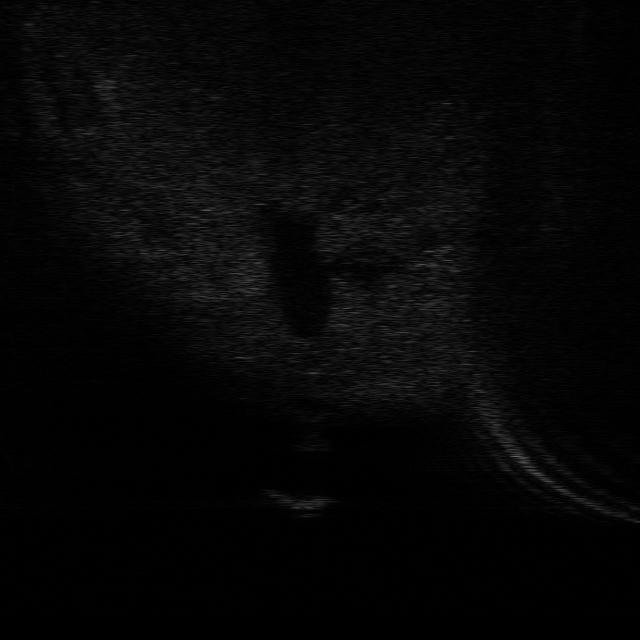cube: (256, 488, 335, 520)
